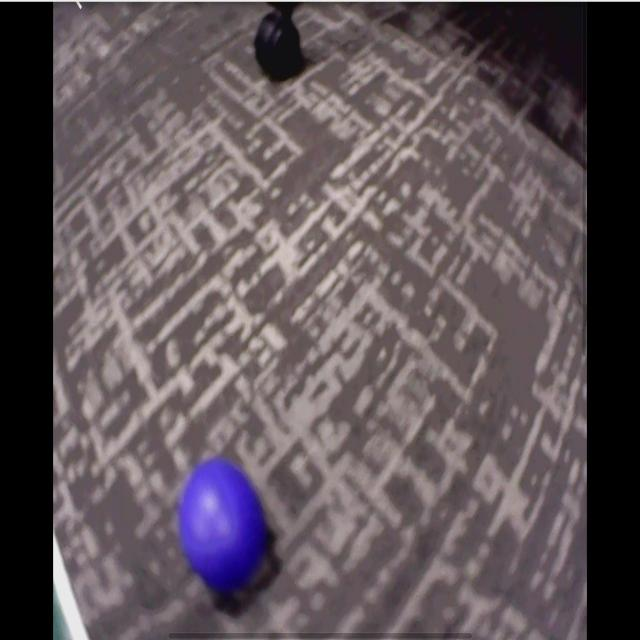ball: (181, 458, 269, 590)
